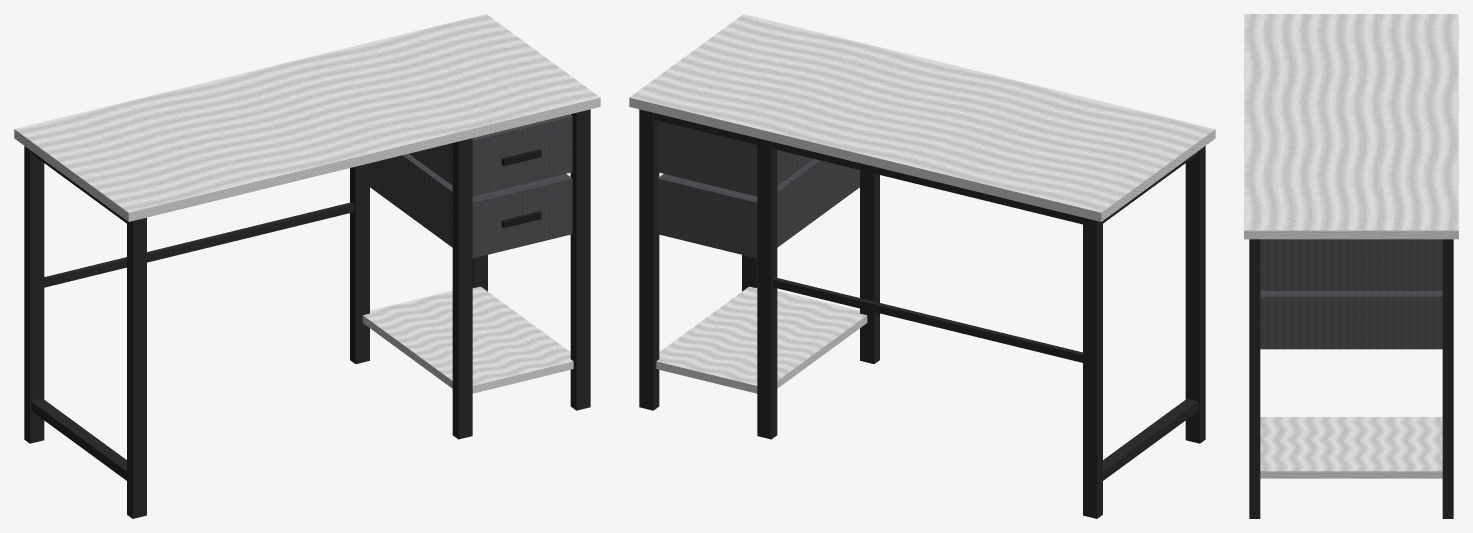
3 views of the same model, side by side, from view 1: azimuth 30°, elevation 25°; view 2: azimuth 150°, elevation 25°; view 3: azimuth 270°, elevation 25° (orthographic). The views are drawn at different scales.
Visible parts, largest first — view 1: 1 tabletop, 10 bottom_shelf, 13 bottom_drawer, 11 top_drawer, 8 right_inner_front_leg, 6 right_outer_front_leg, 2 left_front_leg, 3 left_back_leg, 9 right_inner_back_leg, 15 back_support_bar, 4 left_bottom_rail; view 2: 1 tabletop, 10 bottom_shelf, 13 bottom_drawer, 9 right_inner_back_leg, 7 right_outer_back_leg, 11 top_drawer, 3 left_back_leg, 2 left_front_leg, 8 right_inner_front_leg, 15 back_support_bar, 16 top_back_rail, 4 left_bottom_rail; view 3: 1 tabletop, 10 bottom_shelf, 13 bottom_drawer, 11 top_drawer, 6 right_outer_front_leg, 7 right_outer_back_leg.
Boxes of the visible parts, x1,y1,x2,y2 form: 1 tabletop: (14, 14, 600, 221); 10 bottom_shelf: (362, 286, 573, 393); 13 bottom_drawer: (370, 153, 572, 258); 11 top_drawer: (409, 114, 572, 196); 8 right_inner_front_leg: (452, 138, 472, 439); 6 right_outer_front_leg: (570, 109, 590, 410); 2 left_front_leg: (127, 217, 146, 518); 3 left_back_leg: (24, 146, 44, 443); 9 right_inner_back_leg: (350, 163, 369, 363); 15 back_support_bar: (44, 202, 354, 287); 4 left_bottom_rail: (31, 399, 126, 480); 1 tabletop: (629, 14, 1215, 221); 10 bottom_shelf: (656, 286, 867, 393); 13 bottom_drawer: (657, 159, 859, 258); 9 right_inner_back_leg: (757, 138, 777, 439); 7 right_outer_back_leg: (639, 109, 659, 410); 11 top_drawer: (657, 120, 813, 196); 3 left_back_leg: (1083, 217, 1102, 518); 2 left_front_leg: (1185, 146, 1205, 443); 8 right_inner_front_leg: (860, 170, 879, 363); 15 back_support_bar: (773, 277, 1082, 362); 16 top_back_rail: (654, 113, 1082, 224); 4 left_bottom_rail: (1103, 399, 1198, 480); 1 tabletop: (1244, 14, 1458, 239); 10 bottom_shelf: (1260, 417, 1442, 478); 13 bottom_drawer: (1260, 291, 1442, 349); 11 top_drawer: (1260, 239, 1442, 290); 6 right_outer_front_leg: (1249, 239, 1260, 518); 7 right_outer_back_leg: (1442, 239, 1453, 518).
Size of the model in its own units: 1.19 by 0.7493 by 0.5004.
Materials: 4 (2 with a texture image).
